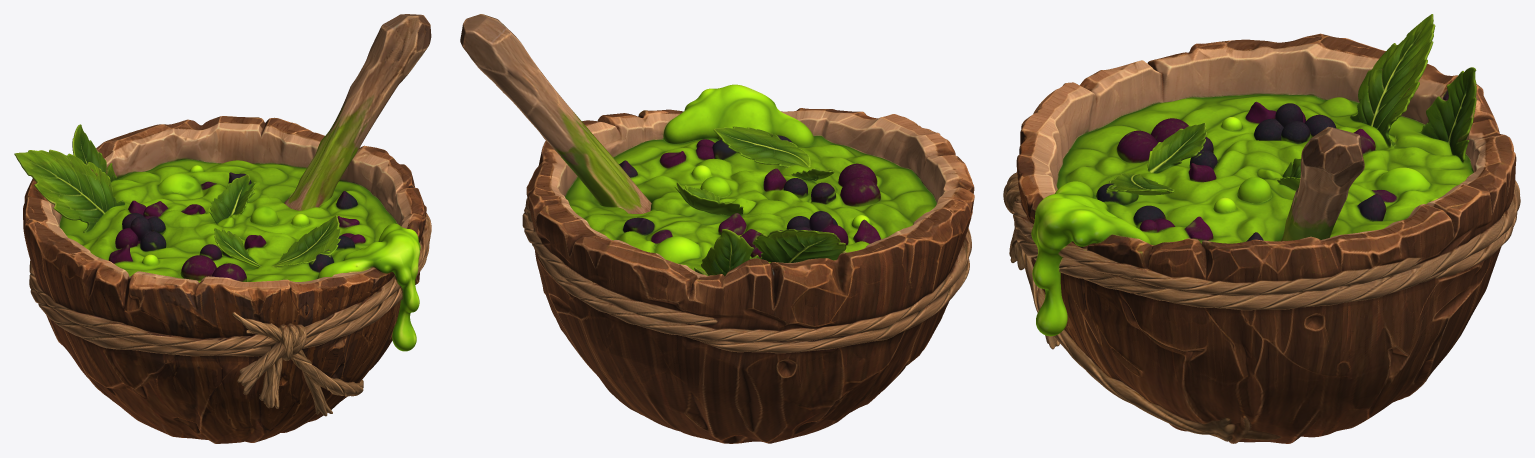
File: Narkotikum.glb
3 views of the same model, side by side, from view 1: azimuth 30°, elevation 25°; view 2: azimuth 150°, elevation 25°; view 3: azimuth 270°, elevation 25° (orthographic). The views are drawn at different scales.
Size of the model in its own units: 1.9 by 1.46 by 1.68.
Materials: 1 (1 with a texture image).
